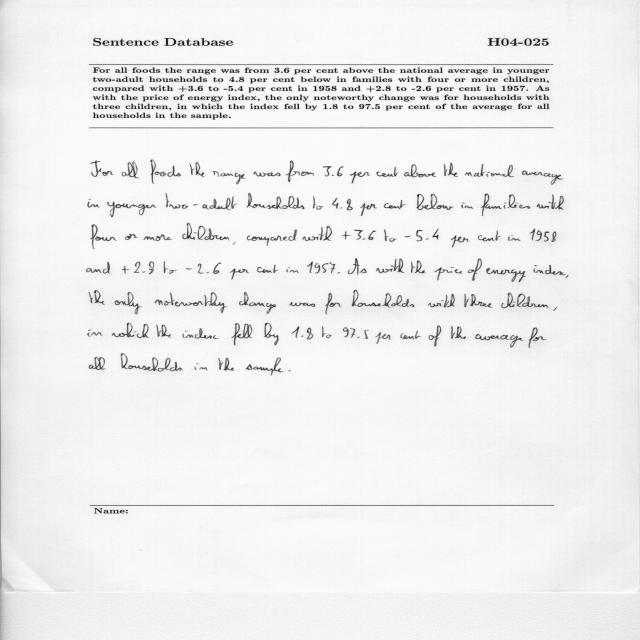word: (155, 292, 228, 313), (166, 193, 238, 210), (481, 193, 530, 216), (352, 290, 414, 308), (121, 354, 182, 372), (247, 193, 305, 209), (247, 229, 297, 246), (239, 292, 277, 314), (183, 223, 230, 240), (150, 160, 181, 184), (107, 202, 156, 217), (501, 293, 549, 308), (475, 334, 523, 348), (91, 224, 117, 249), (465, 164, 514, 177), (246, 358, 283, 375), (286, 160, 314, 182), (115, 292, 142, 314), (417, 194, 454, 210), (522, 171, 563, 185), (486, 268, 526, 282), (112, 323, 149, 338), (302, 226, 332, 241), (405, 229, 439, 242), (232, 323, 252, 345), (404, 165, 437, 178), (186, 262, 221, 274), (376, 259, 404, 274), (213, 171, 245, 184), (122, 262, 154, 275), (464, 294, 493, 308), (537, 195, 564, 210), (528, 327, 547, 348), (183, 328, 219, 339), (91, 160, 114, 177), (434, 267, 462, 280), (325, 293, 342, 314), (530, 229, 557, 242), (428, 294, 455, 307), (342, 230, 376, 240), (307, 262, 335, 274), (264, 323, 279, 345), (348, 258, 367, 275), (468, 258, 482, 281), (534, 265, 566, 275), (343, 327, 369, 339), (122, 162, 139, 179), (87, 262, 111, 274), (292, 327, 313, 340), (429, 325, 441, 347), (332, 198, 353, 210), (478, 231, 500, 242), (189, 162, 205, 177), (350, 172, 370, 184), (89, 290, 105, 305), (451, 236, 470, 248), (360, 203, 377, 216), (89, 357, 106, 370), (218, 358, 235, 371), (377, 167, 399, 177), (230, 269, 250, 280), (323, 166, 344, 176), (444, 162, 458, 177), (143, 234, 172, 241), (384, 200, 406, 209), (411, 261, 426, 274), (156, 325, 171, 338), (451, 326, 466, 339), (400, 331, 421, 340), (376, 332, 391, 344), (384, 229, 397, 242), (164, 261, 177, 274), (257, 265, 278, 273), (254, 172, 281, 177), (313, 196, 323, 209), (289, 302, 315, 307), (322, 326, 332, 338), (88, 199, 99, 208), (88, 330, 102, 337), (194, 364, 208, 371), (461, 202, 474, 209), (125, 234, 138, 240), (508, 235, 521, 241), (287, 267, 299, 273), (554, 307, 558, 311), (233, 242, 236, 245), (566, 275, 569, 278), (337, 272, 340, 273), (289, 370, 291, 371)
